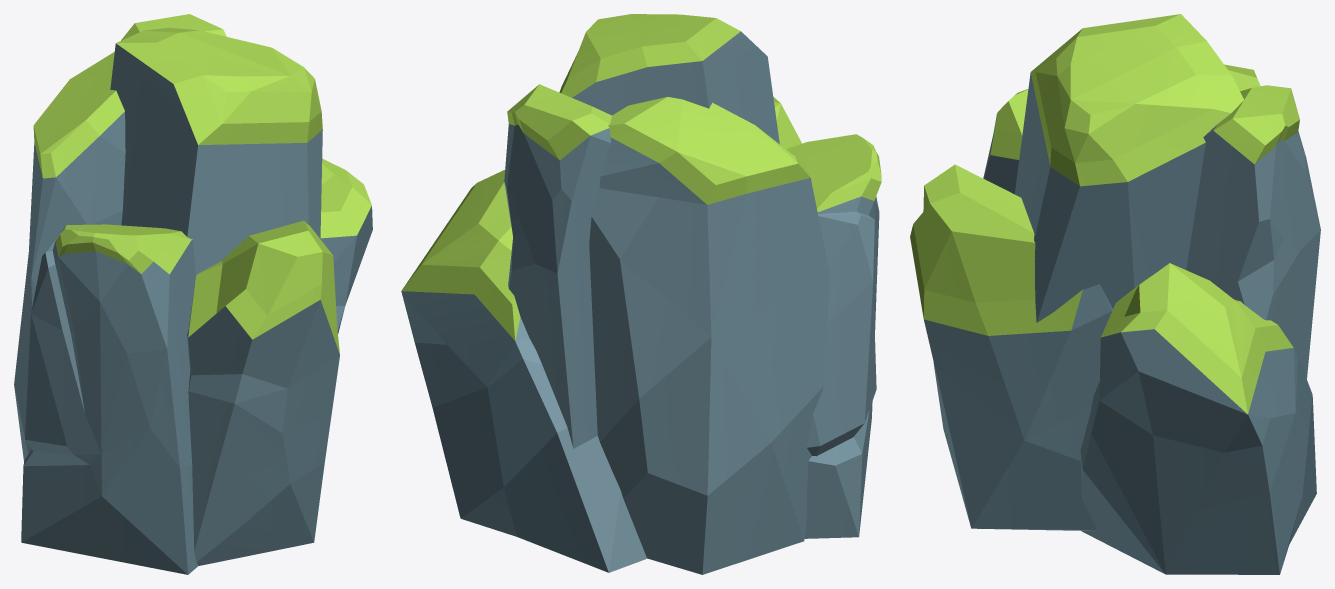
Rendered from Rock10.fbx.
The picture shows the model from 3 angles, left to right: view 1: azimuth 30°, elevation 25°; view 2: azimuth 150°, elevation 25°; view 3: azimuth 270°, elevation 25°; orthographic projection. The views are drawn at different scales.
Visible parts, largest first — view 1: Rock10_LOD0; view 2: Rock10_LOD0; view 3: Rock10_LOD0.
Part boxes in pixels (x1,y1,x2,y2): Rock10_LOD0: [14, 14, 372, 574]; Rock10_LOD0: [401, 14, 881, 574]; Rock10_LOD0: [910, 14, 1320, 574].
Size of what is drawn, in the model's own units: 162 by 184 by 146.
